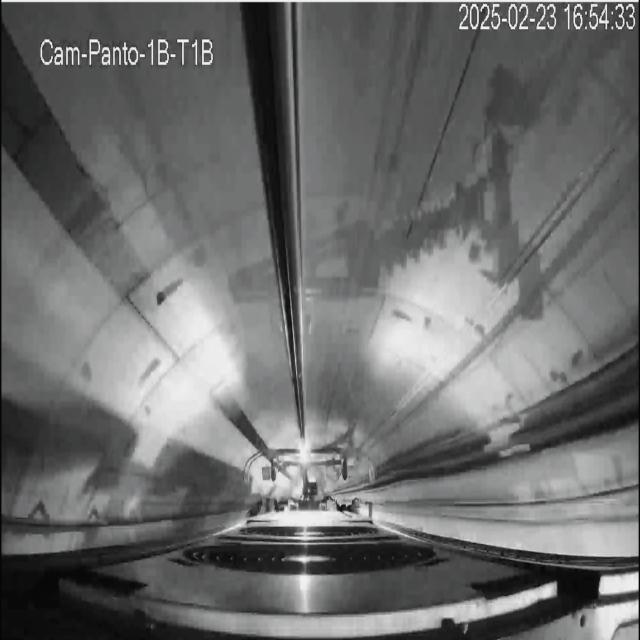Camera Stamp: (39, 34, 219, 69)
Date Stamp: (459, 3, 636, 33)
Sparks: (292, 430, 319, 473)
